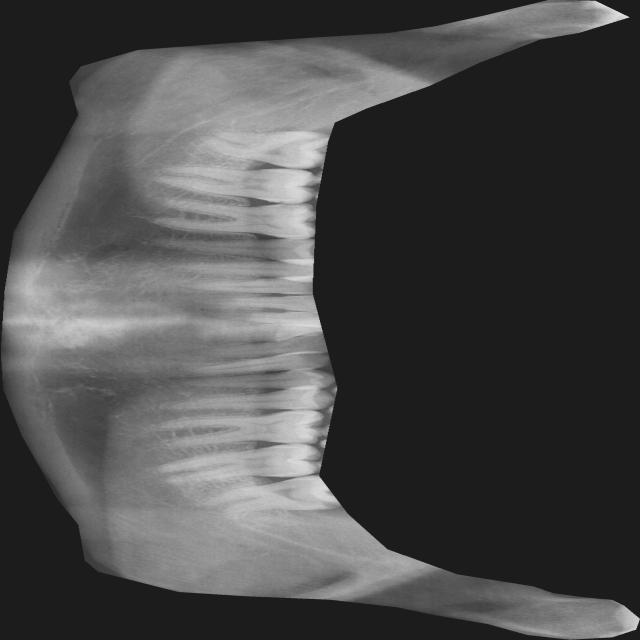mandibula: (0, 0, 639, 640)
